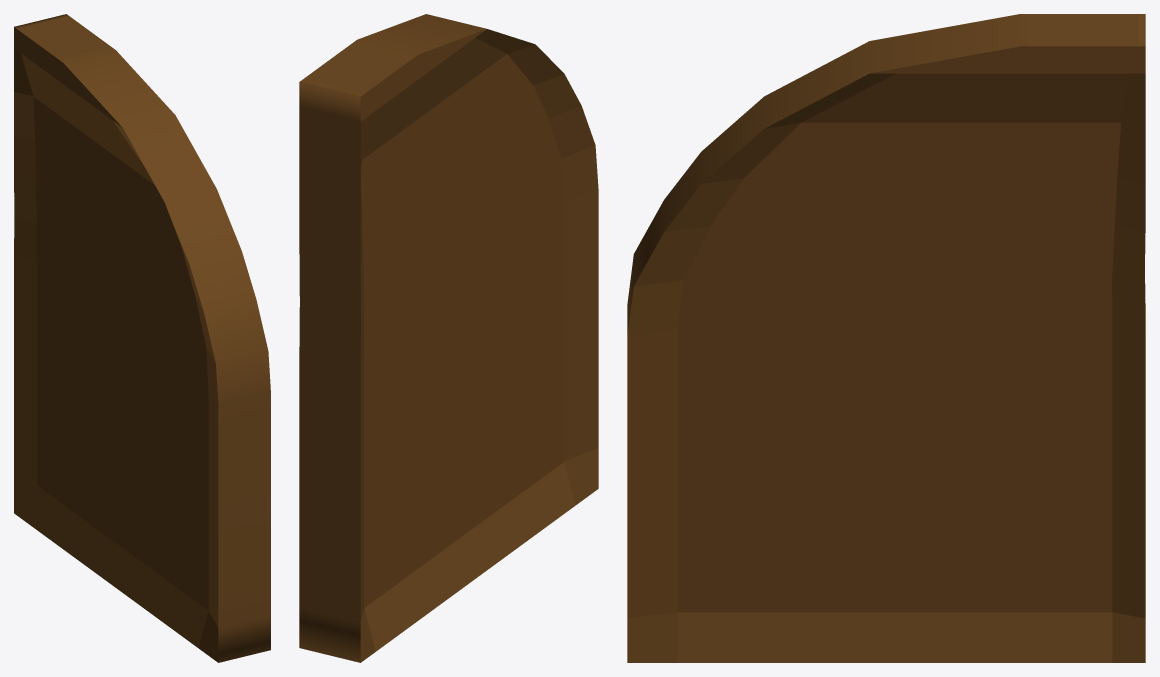
Rendered from SaloonDoor.fbx.
3 renders of one model, left to right at view 1: azimuth 30°, elevation 25°; view 2: azimuth 150°, elevation 25°; view 3: azimuth 270°, elevation 25°, orthographic. The views are drawn at different scales.
Visible parts, largest first — view 1: Cube; view 2: Cube; view 3: Cube.
Part boxes in pixels (x1,y1,x2,y2): Cube: (14,14,270,662); Cube: (299,14,598,662); Cube: (627,14,1145,662).
Bounding box in the file's own units: 0.1037 × 0.9174 × 0.6986.
